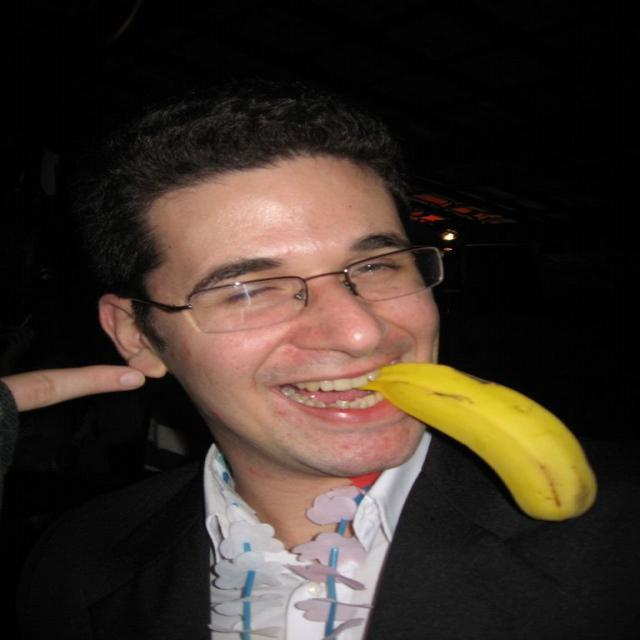Banana: (353, 348, 605, 524)
